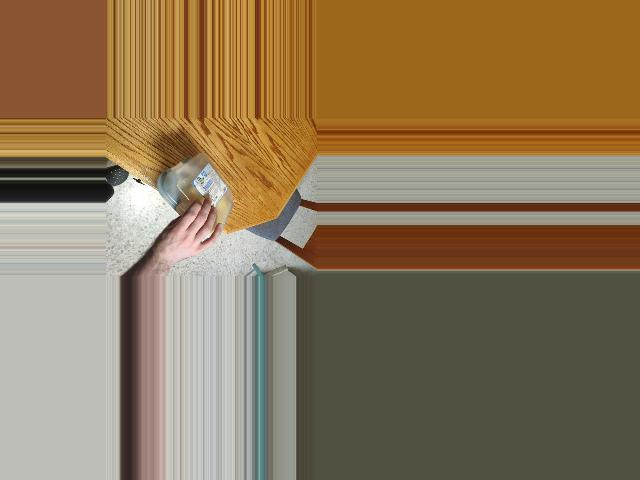cheese: (159, 153, 233, 245)
